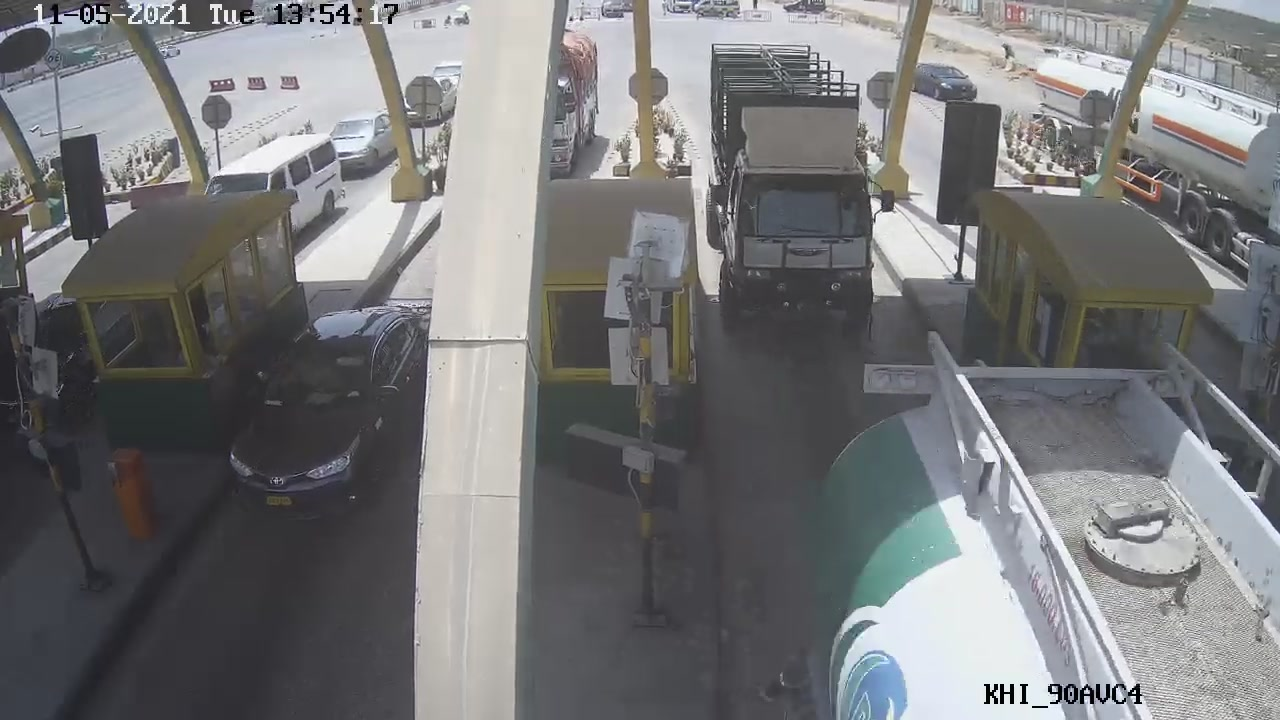F5: (697, 26, 898, 335)
